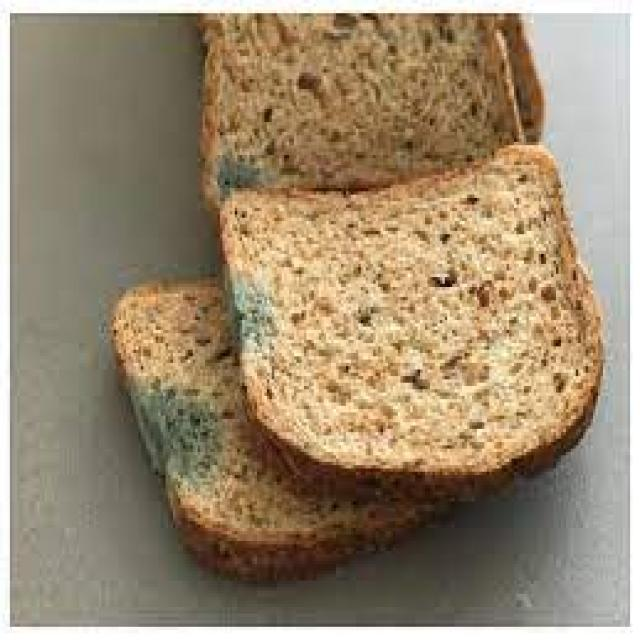Wet Waste: (73, 211, 581, 591), (110, 13, 568, 198)
